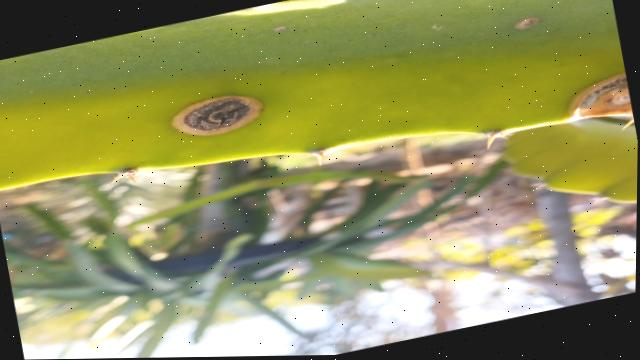stemcanker: (166, 87, 274, 141), (565, 69, 637, 120)
